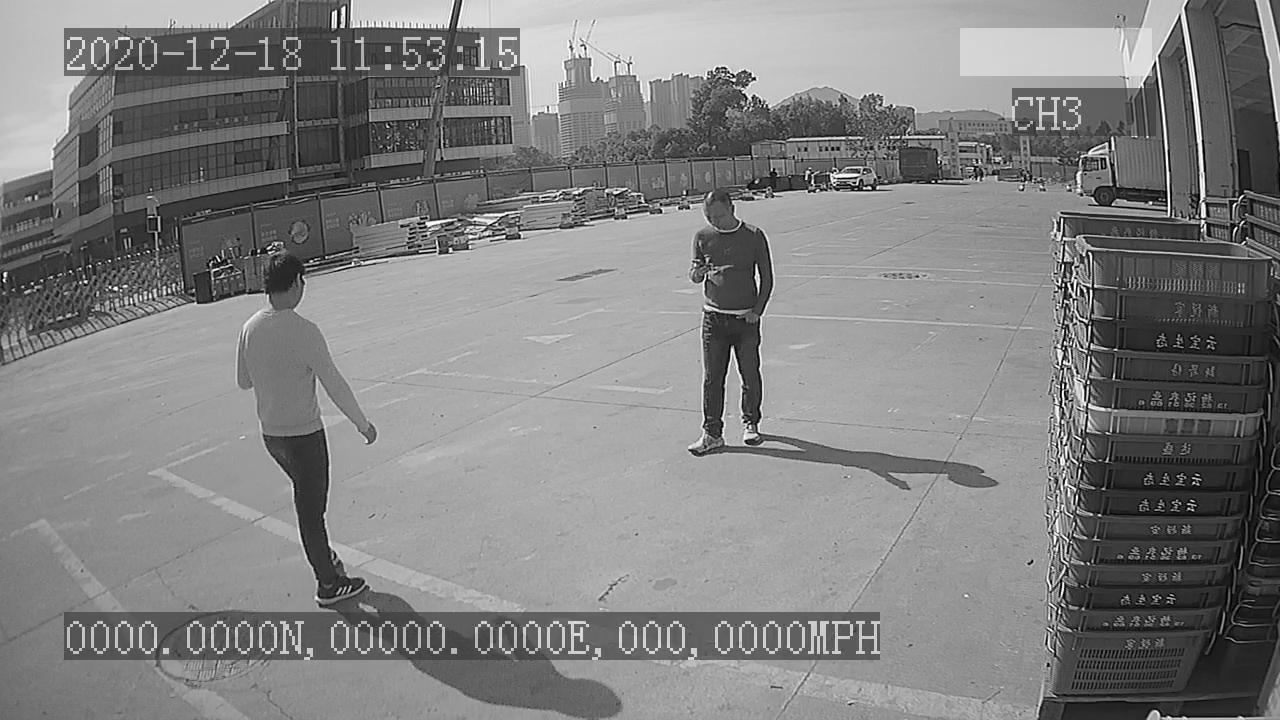person: (227, 247, 383, 604), (661, 181, 779, 470)
